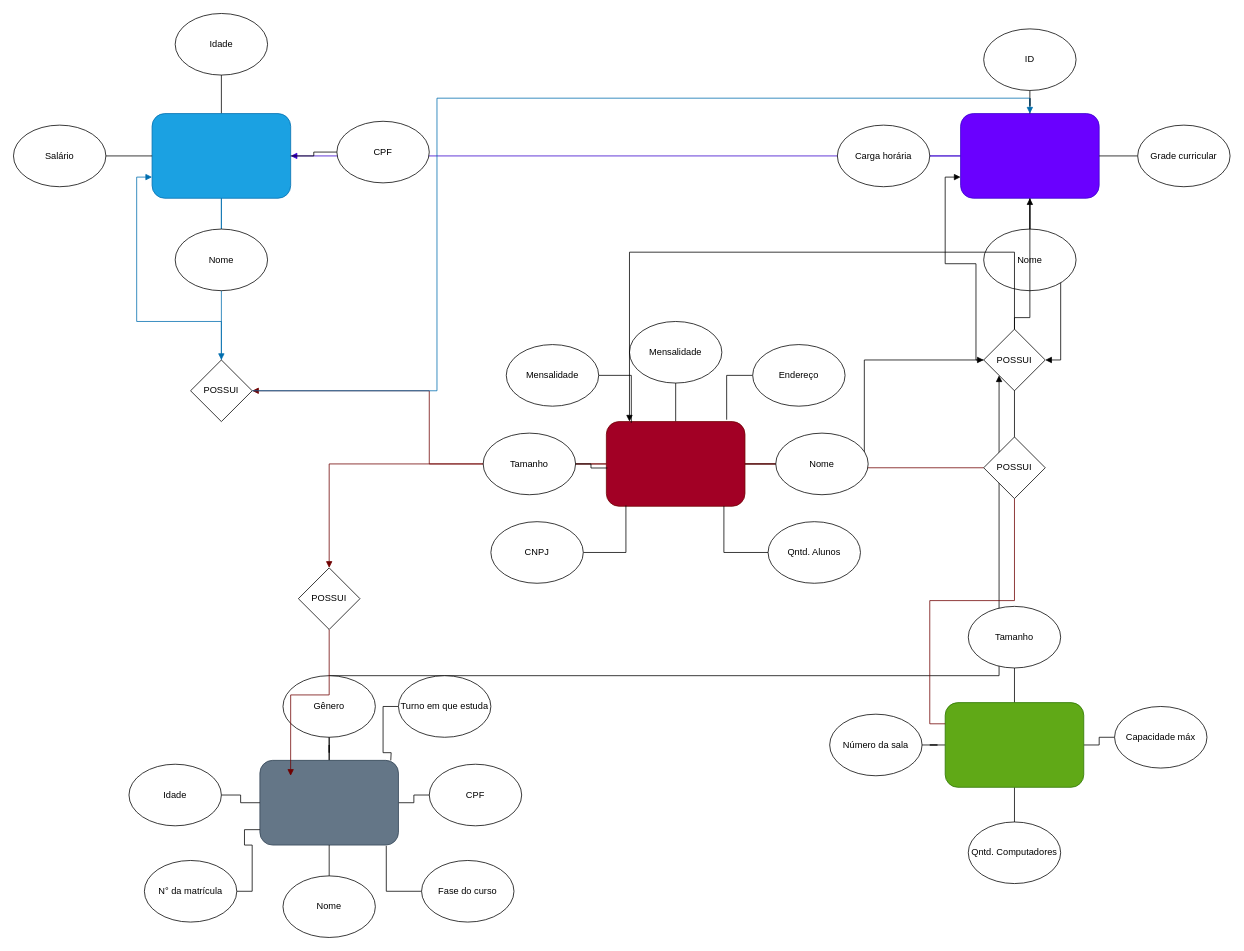
Some shapes in this 1244 by 951 pixel diagram are drawn without their labels. The shapes that lost their labels are listed below. From the top down, each one's centre as x and y in pixels, then its label:
[221,155]: PROFESSORES
[1029,155]: CURSOS
[675,463]: UNIVERSIDADE
[1014,744]: SALAS
[328,802]: ALUNOS
